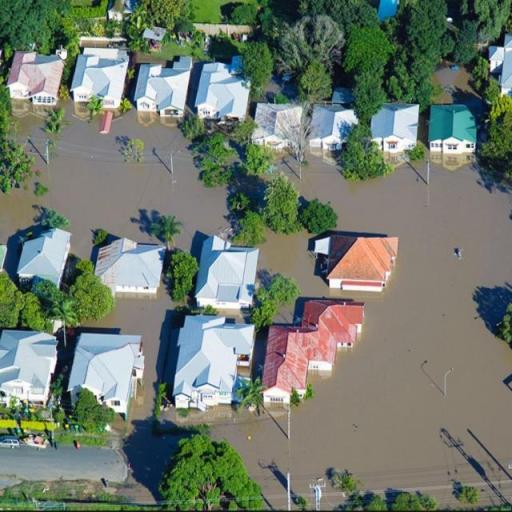flood: (166, 155, 512, 511), (0, 102, 231, 258), (88, 285, 178, 502), (16, 105, 48, 150), (322, 485, 344, 511)
house: (272, 295, 355, 393), (174, 316, 256, 406), (72, 332, 142, 413), (91, 231, 166, 298), (318, 230, 397, 293), (8, 224, 74, 298), (194, 238, 260, 310), (2, 328, 58, 407), (193, 64, 246, 122), (72, 51, 128, 105), (12, 52, 64, 110), (140, 61, 190, 120), (252, 99, 302, 154), (428, 103, 476, 159), (310, 98, 356, 148), (370, 103, 418, 148)
